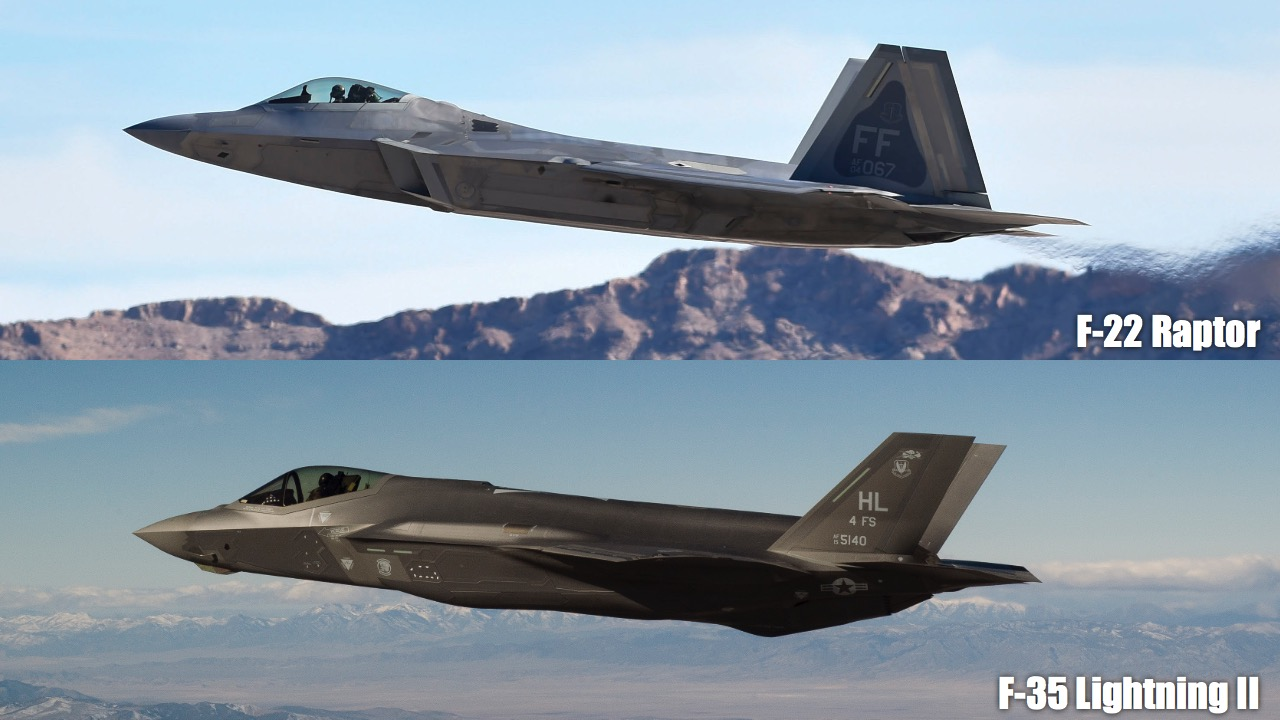F-22 Raptor: (81, 5, 1110, 297)
F-35 Lightning: (137, 388, 1046, 665)
